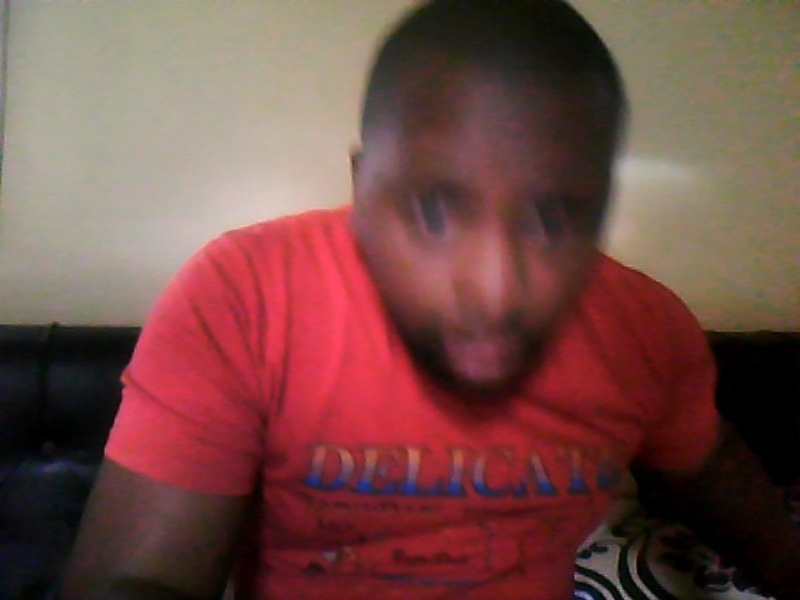TsisyArotava: (334, 9, 631, 424)
